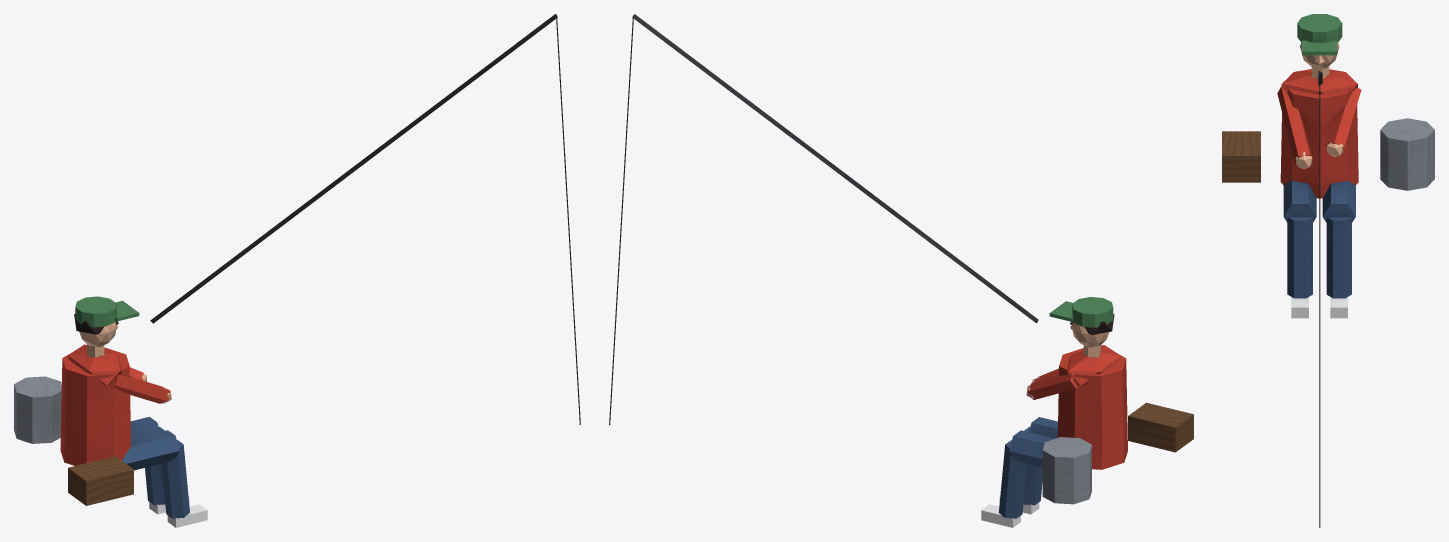
Rendered from fiskare_brygga_tex.glb.
The picture shows the model from 3 angles, left to right: view 1: azimuth 30°, elevation 25°; view 2: azimuth 150°, elevation 25°; view 3: azimuth 270°, elevation 25°; orthographic projection. The views are drawn at different scales.
Parts seen in each view (by area): view 1: fiskare_brygga; view 2: fiskare_brygga; view 3: fiskare_brygga.
Part boxes in pixels (x1=…): fiskare_brygga: x1=14, y1=14, x2=580, y2=527; fiskare_brygga: x1=609, y1=14, x2=1193, y2=527; fiskare_brygga: x1=1222, y1=14, x2=1434, y2=527.
Bounding box in the file's own units: 3.4 × 2.51 × 1.09.
Materials: 9 (9 with a texture image).
